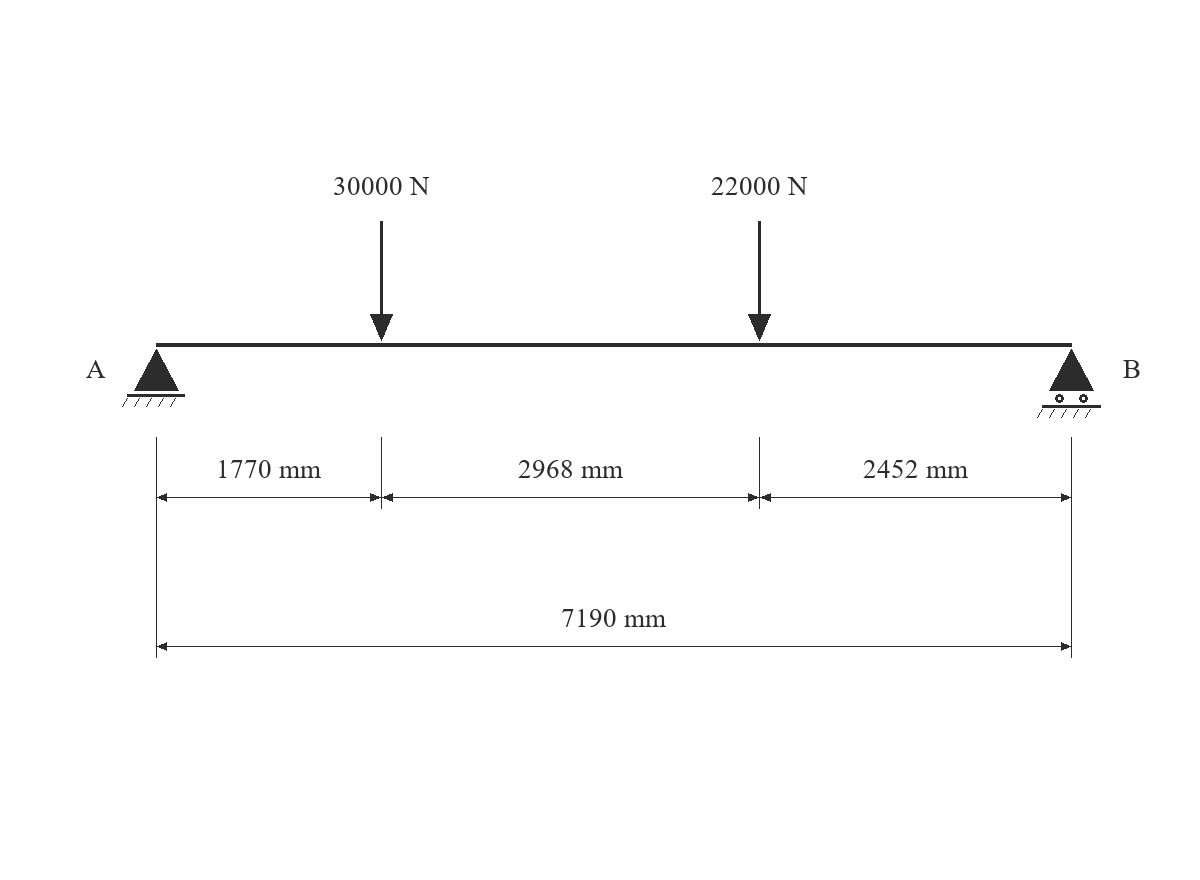pin_support: (122, 349, 185, 407)
point_load: (370, 221, 393, 341), (748, 221, 771, 341)
roller_support: (1037, 349, 1101, 418)
